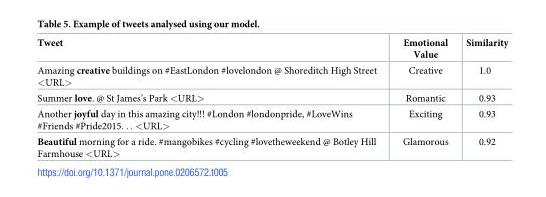table: (36, 37, 507, 158)
table column: (36, 37, 388, 158), (388, 37, 456, 158), (456, 37, 507, 158)
table column header: (36, 37, 507, 62)
table row: (36, 62, 507, 90), (36, 105, 507, 133), (36, 37, 507, 62), (36, 133, 507, 158), (36, 90, 507, 105)
